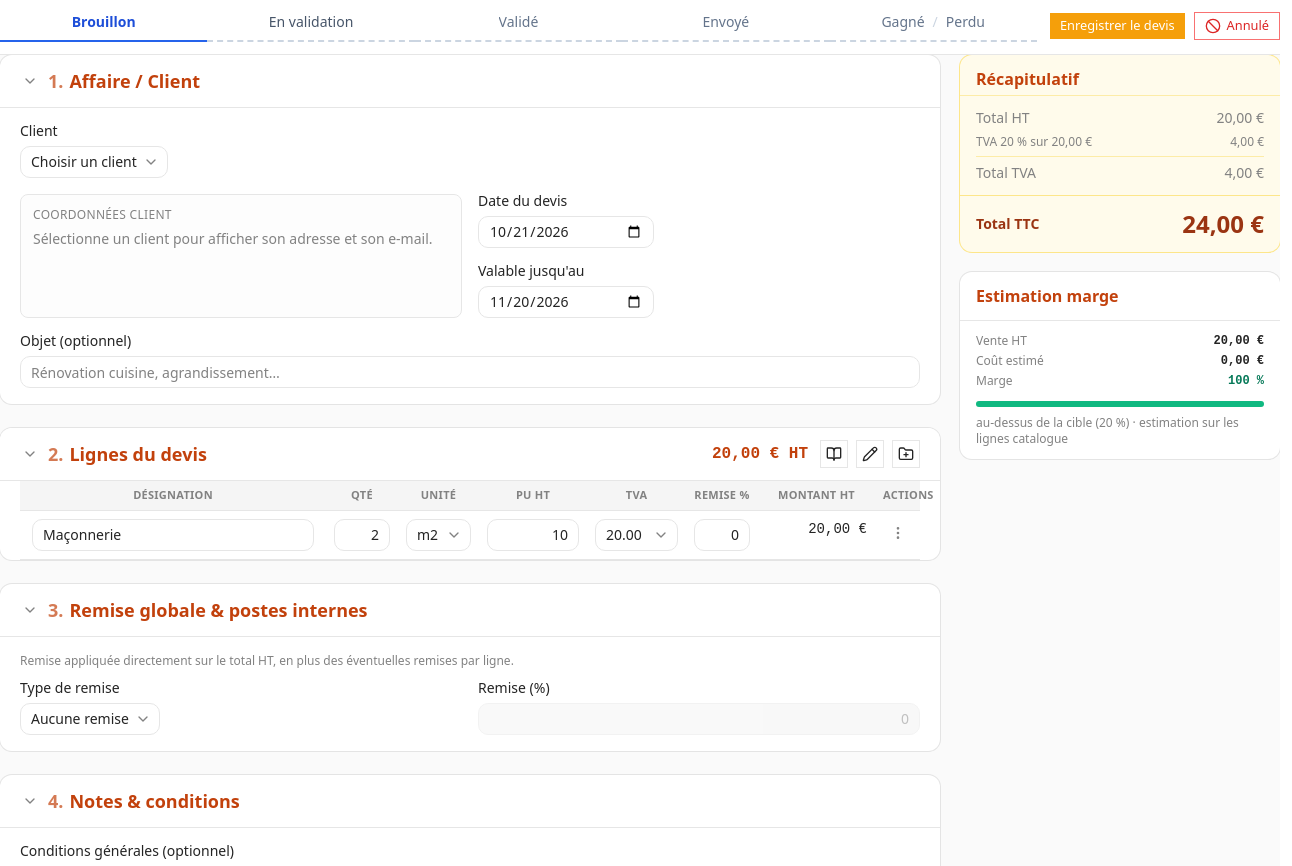
Test: Ligne de devis allégée — composants sans field array par ligne › ajoute un composant depuis le menu et l’affiche
The image size is (1292, 866).
What coordinates should you click on to do the following:
click the heading titled "Actions de la ligne"
I would click on:
 (898, 532)
Its box is [890, 524, 906, 540].
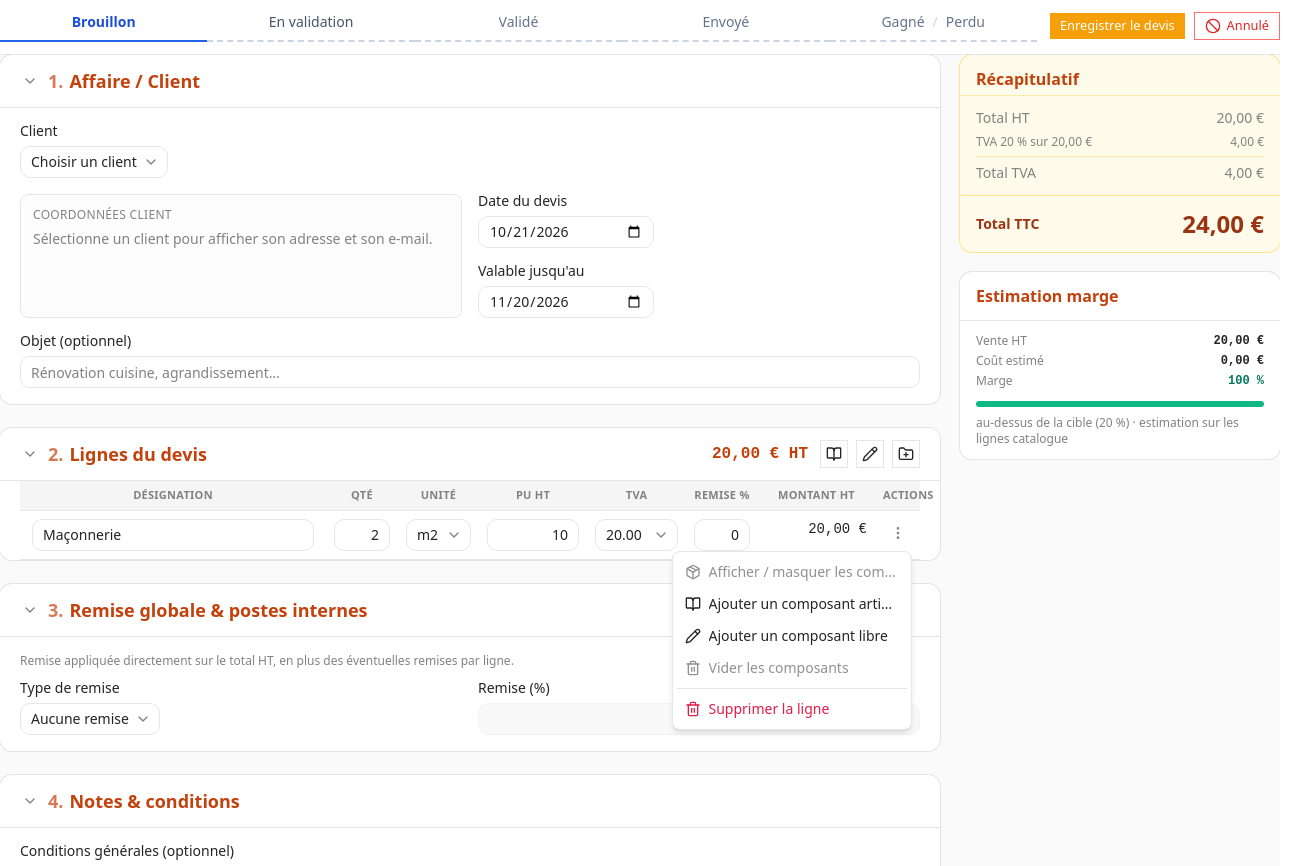
What coordinates should you click on to do the following:
click the button labelled "Ajouter un composant libre"
I would click on:
 (792, 636)
Its box is [676, 620, 906, 652].
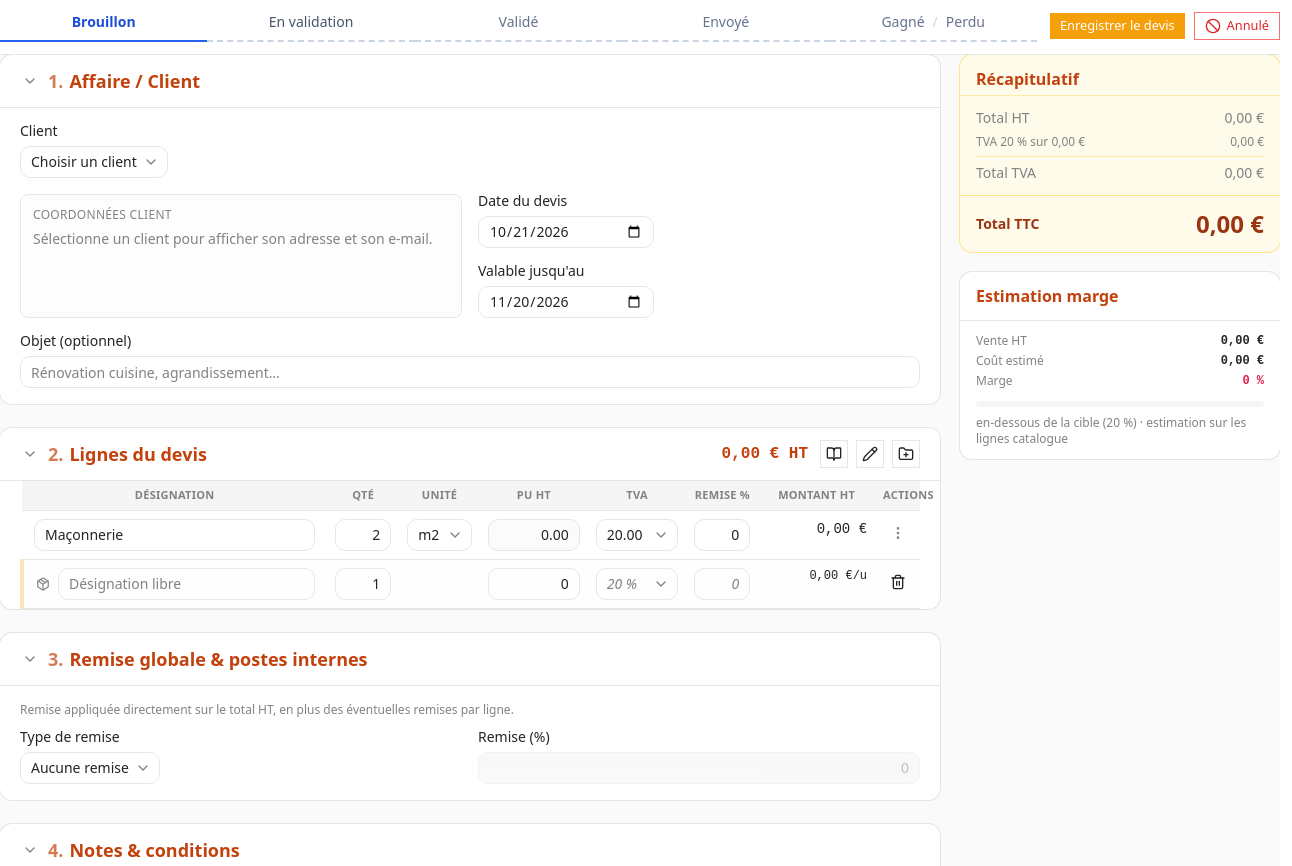
Check: the number of fields named "Quantité par unité de ligne" is 1, box [335, 568, 391, 600]
